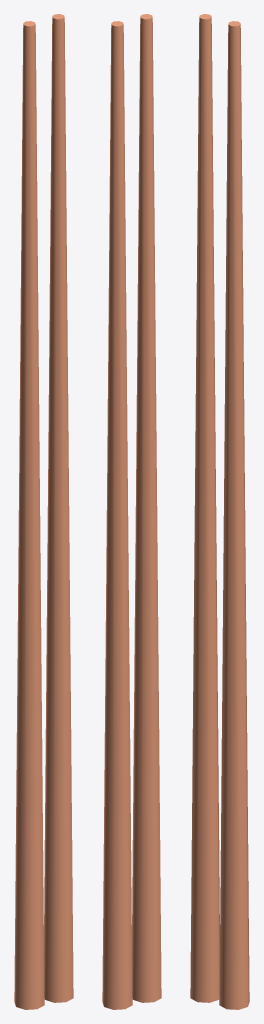
File: chopsticks_001.glb
The picture shows the model from 3 angles, left to right: view 1: azimuth 30°, elevation 25°; view 2: azimuth 210°, elevation 25°; view 3: azimuth 330°, elevation 25°; orthographic projection.
Visible parts, largest first — view 1: chopsticks.001; view 2: chopsticks.001; view 3: chopsticks.001.
Part boxes in pixels (x1=…): chopsticks.001: x1=14, y1=14, x2=73, y2=1009; chopsticks.001: x1=102, y1=14, x2=161, y2=1009; chopsticks.001: x1=190, y1=14, x2=249, y2=1009.
Bounding box in the file's own units: 0.33 × 5.51 × 0.1591.
1 material, 1 textured.
